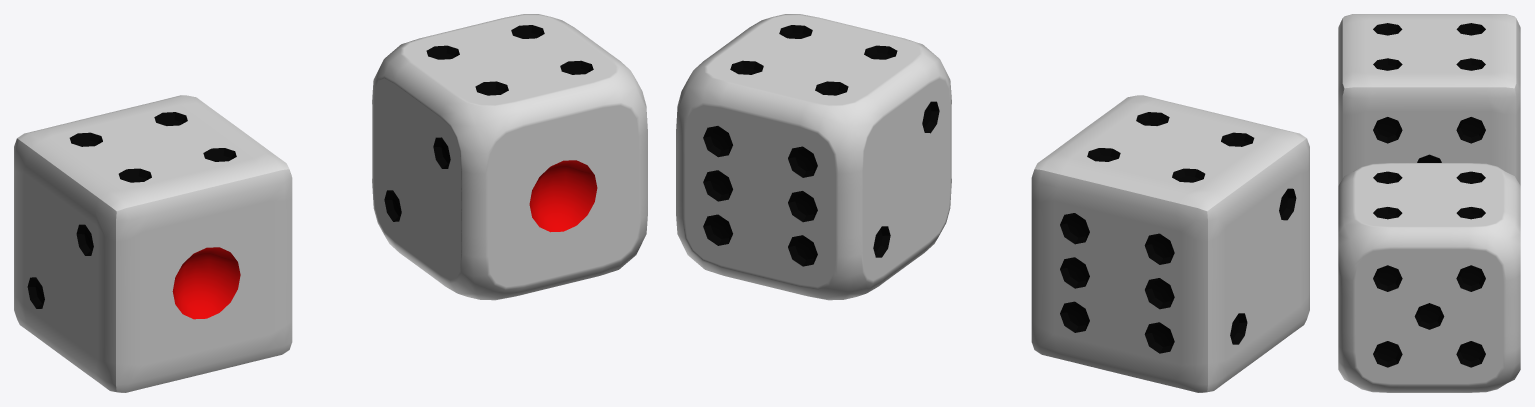
File: Dice.fbx
The picture shows the model from 3 angles, left to right: view 1: azimuth 30°, elevation 25°; view 2: azimuth 150°, elevation 25°; view 3: azimuth 270°, elevation 25°; orthographic projection. The views are drawn at different scales.
Visible parts, largest first — view 1: polySurface19, polySurface26; view 2: polySurface19, polySurface26; view 3: polySurface26, polySurface19.
Part boxes in pixels (x1,y1,x2,y2): polySurface19: (14, 95, 292, 392); polySurface26: (372, 14, 647, 300); polySurface19: (1031, 95, 1309, 392); polySurface26: (676, 14, 951, 300); polySurface26: (1338, 163, 1520, 392); polySurface19: (1338, 14, 1520, 185).
Size of the model in its own units: 293 by 100 by 100.
